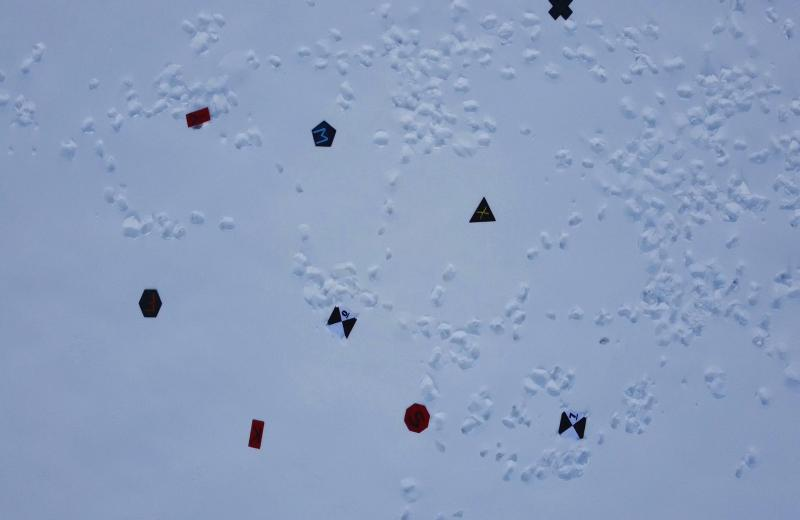Cross: (545, 0, 579, 23)
Hexagon: (136, 285, 164, 322)
Octagon: (403, 396, 431, 437)
Pentagon: (308, 116, 338, 150)
Rectangle: (245, 413, 267, 456), (182, 104, 214, 130)
Triangle: (466, 192, 499, 227)
